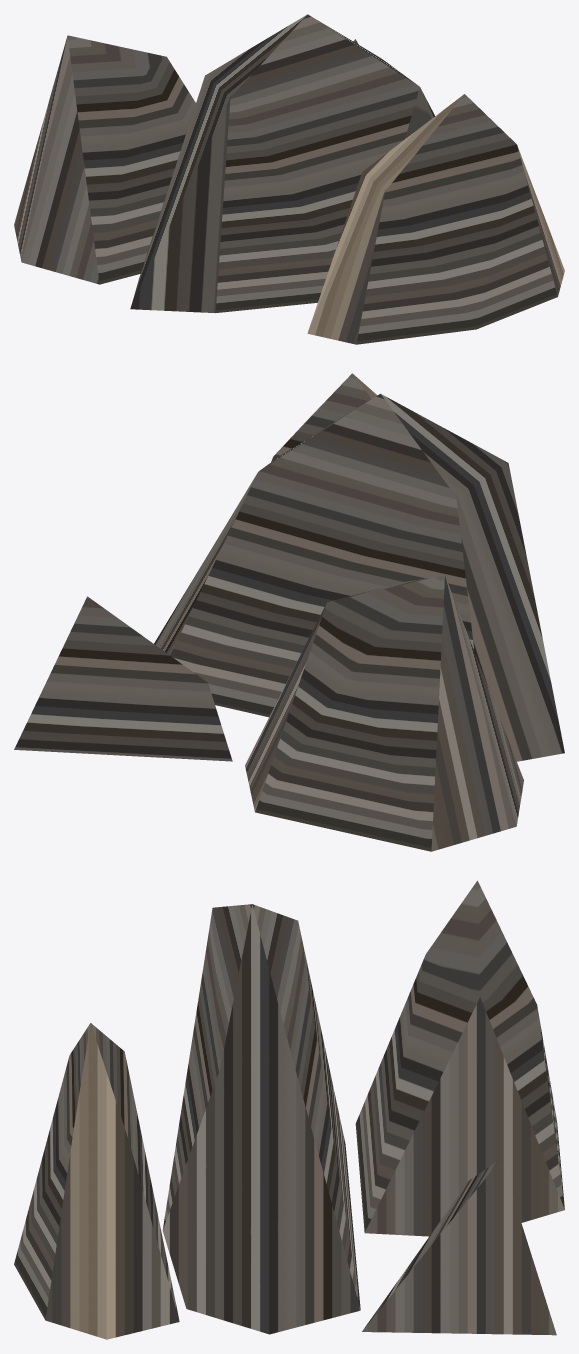
The model's file is rock_vformation2_hdtex.glb.
3 views of the same model, one above another, from view 1: azimuth 30°, elevation 25°; view 2: azimuth 150°, elevation 25°; view 3: azimuth 270°, elevation 25° (orthographic). The views are drawn at different scales.
Parts seen in each view (by area): view 1: Rock_VFormation2; view 2: Rock_VFormation2; view 3: Rock_VFormation2.
Part boxes in pixels (<box>): Rock_VFormation2: <box>14,14,564,344</box>; Rock_VFormation2: <box>14,373,564,851</box>; Rock_VFormation2: <box>14,880,564,1339</box>.
Size of the model in its own units: 24.89 by 15.55 by 24.41.
1 material, 1 textured.
